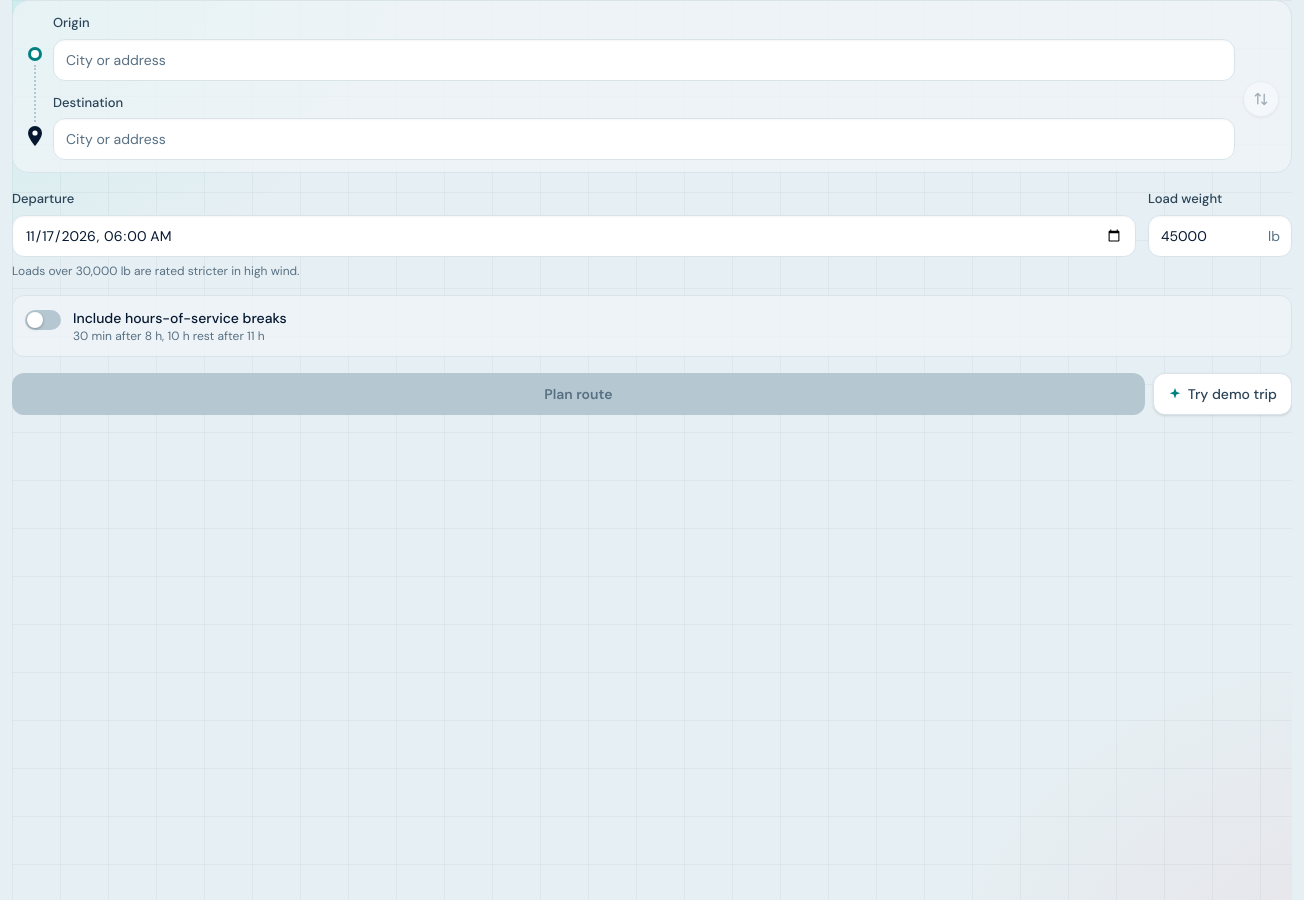
Scenario: swapping with one place empty moves it and clears the other field
The width and height of the screenshot is (1304, 900).
Type "Denv" into the dropdown labelled "Origin" at (644, 60), box [53, 38, 1235, 80]
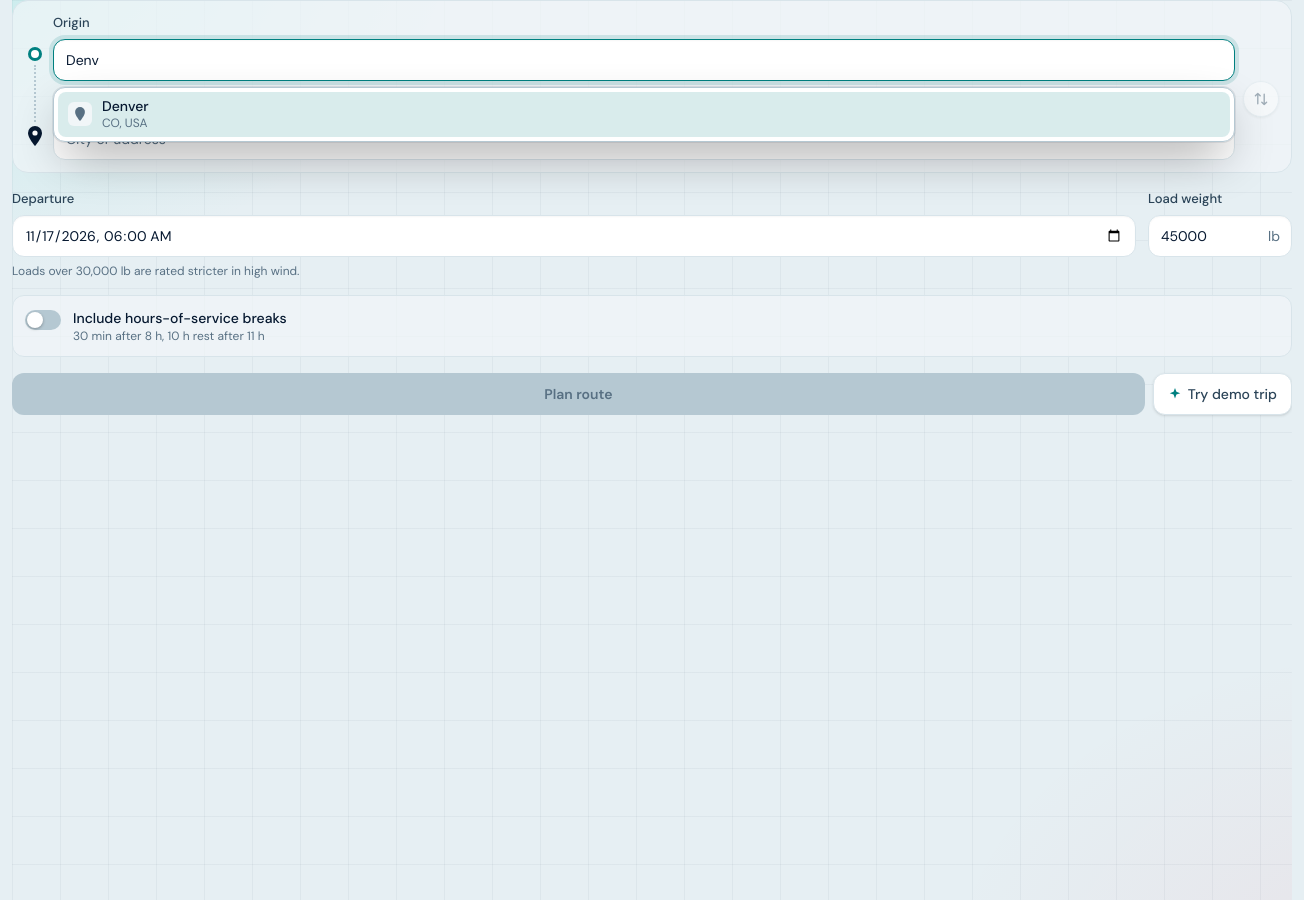
Click the option with aria-label "Denver, CO, USA" at (125, 106), box [58, 92, 1230, 137]
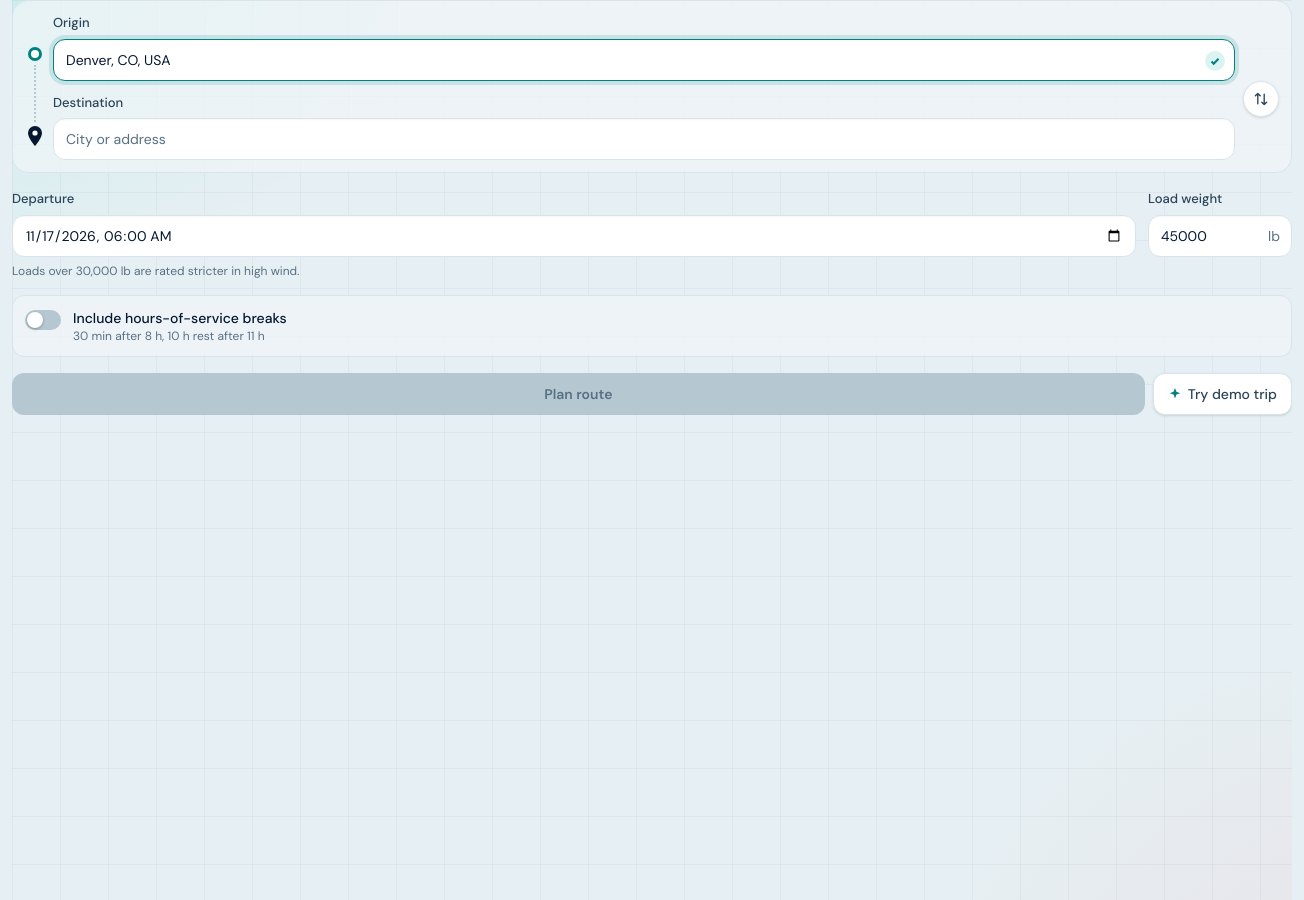
Click the button named "Swap origin and destination" at (1261, 98), box [1243, 80, 1279, 116]
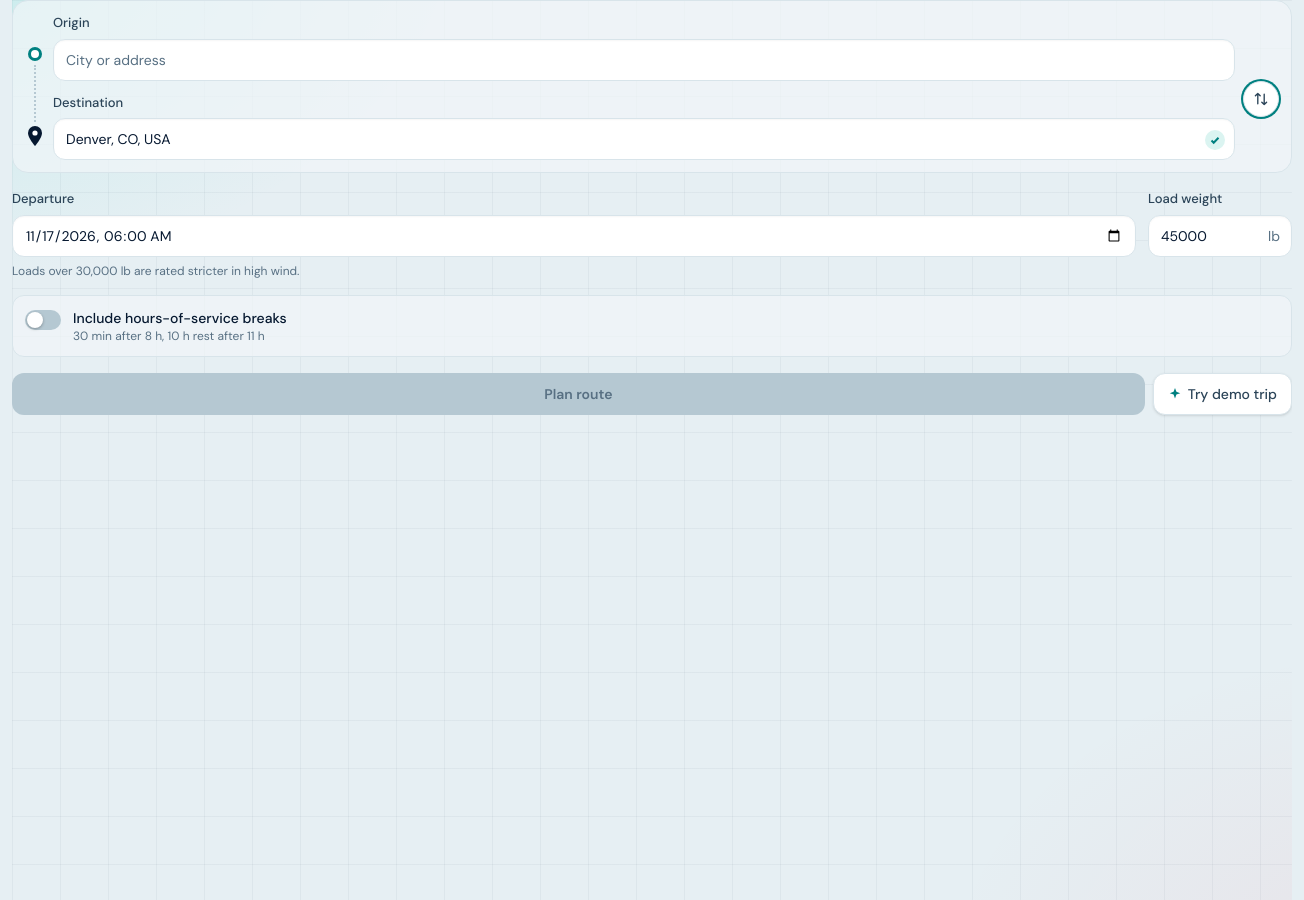
Check: the button "Plan route" is disabled, box [12, 372, 1145, 414]
Check: the dropdown labelled "Origin" is empty, box [53, 38, 1235, 80]
Check: the dropdown labelled "Destination" holds "Denver, CO, USA", box [53, 118, 1235, 160]
